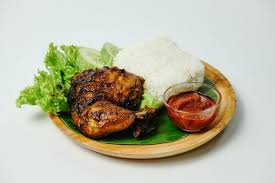Ayam goreng: (65, 65, 170, 138)
Nasi putih: (113, 27, 208, 94)
